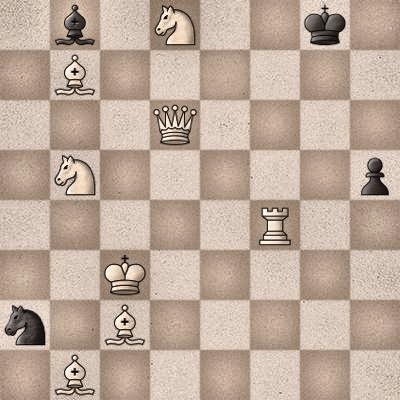black-bishop: (50, 0, 100, 50)
black-king: (300, 0, 350, 50)
black-knight: (0, 300, 50, 350)
black-pawn: (350, 150, 400, 200)
white-bishop: (50, 50, 100, 100), (100, 300, 150, 350), (50, 350, 100, 400)
white-king: (100, 250, 150, 300)
white-knight: (150, 0, 200, 50), (50, 150, 100, 200)
white-queen: (150, 100, 200, 150)
white-rook: (250, 200, 300, 250)
